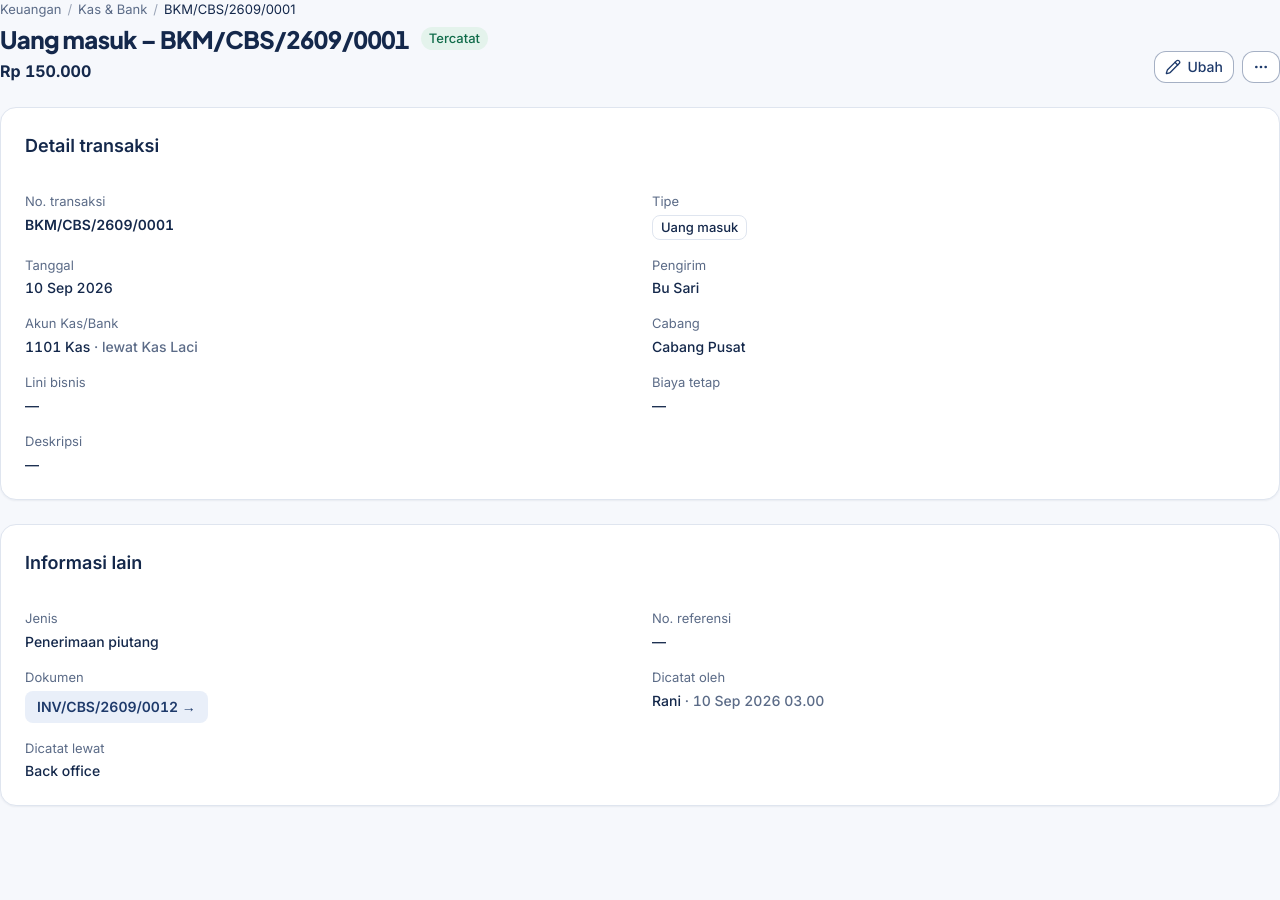
Scenario: CashTransactionDetail — Ubah and Batalkan › opens the journal in a dialog, with the number linking out
Click the button named "Tindakan lain" at point(1261, 67), box left=1242, top=51, right=1279, bottom=83
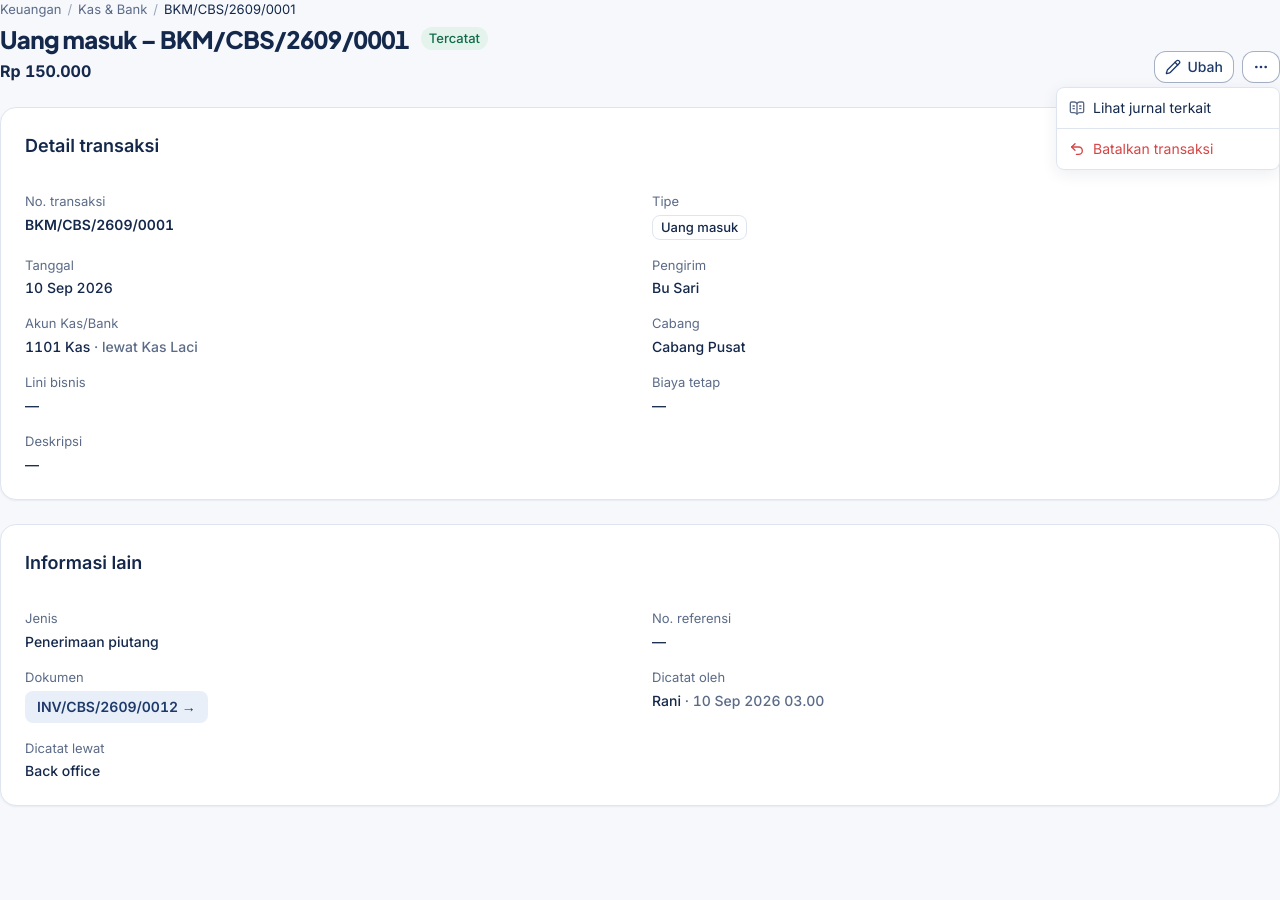
Click the menu item "Lihat jurnal terkait" at point(1140, 108), box left=1069, top=99, right=1211, bottom=116
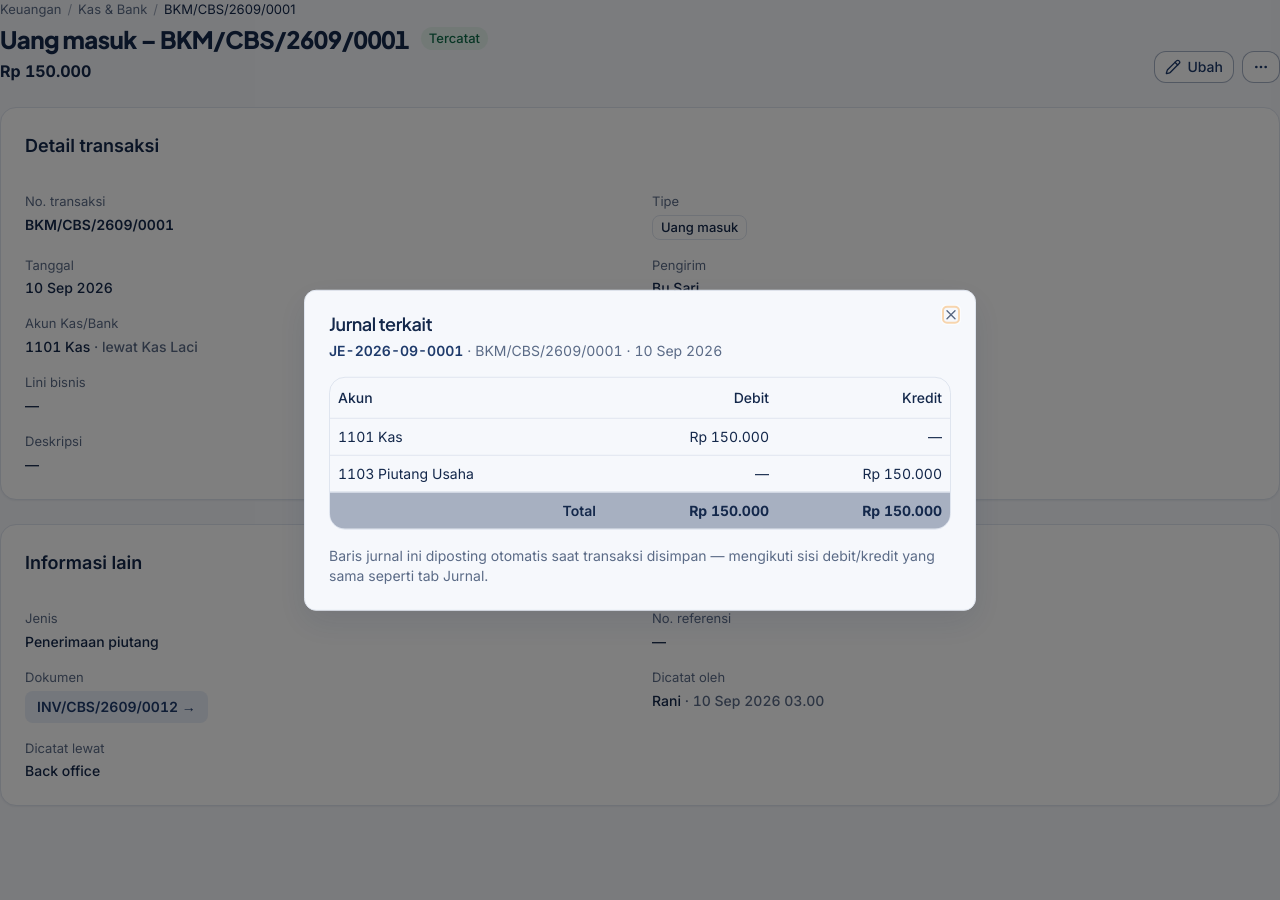
Check: the text "Kas" is shown, box left=378, top=427, right=403, bottom=444
Check: the text "Piutang Usaha" is shown, box left=378, top=464, right=474, bottom=481
Check: the text "Rp 150.000" is shown 4 times, box left=604, top=418, right=777, bottom=455; left=777, top=455, right=950, bottom=492; left=604, top=492, right=777, bottom=528; left=777, top=492, right=950, bottom=528
